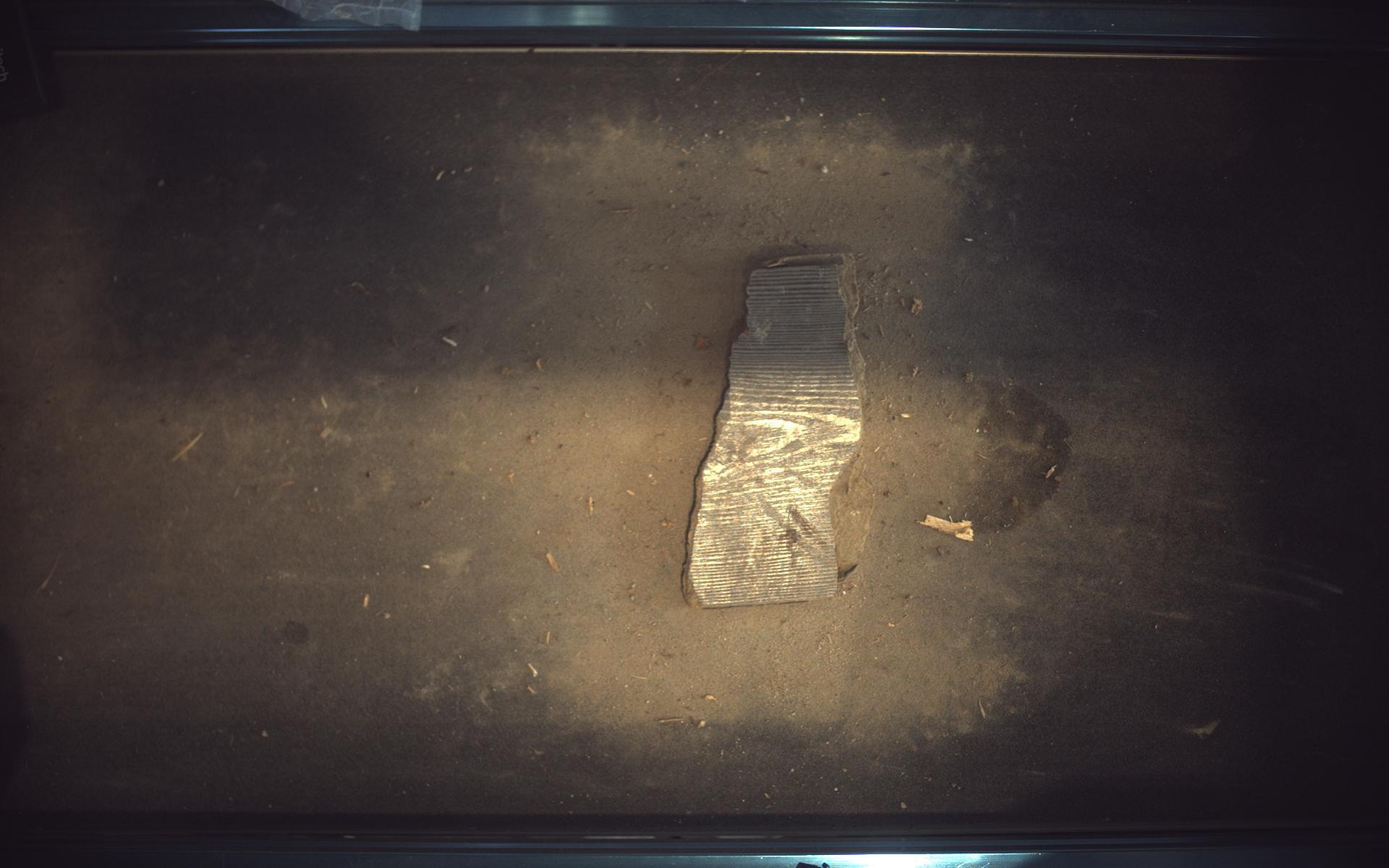wood: (685, 253, 875, 608)
